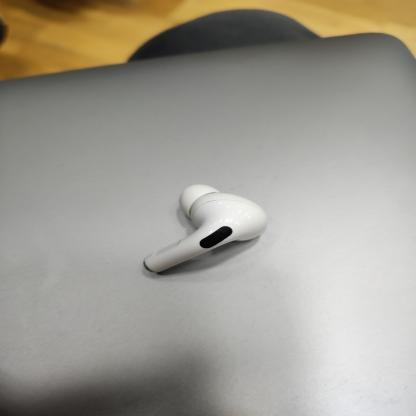Airpods: (132, 181, 272, 290)
